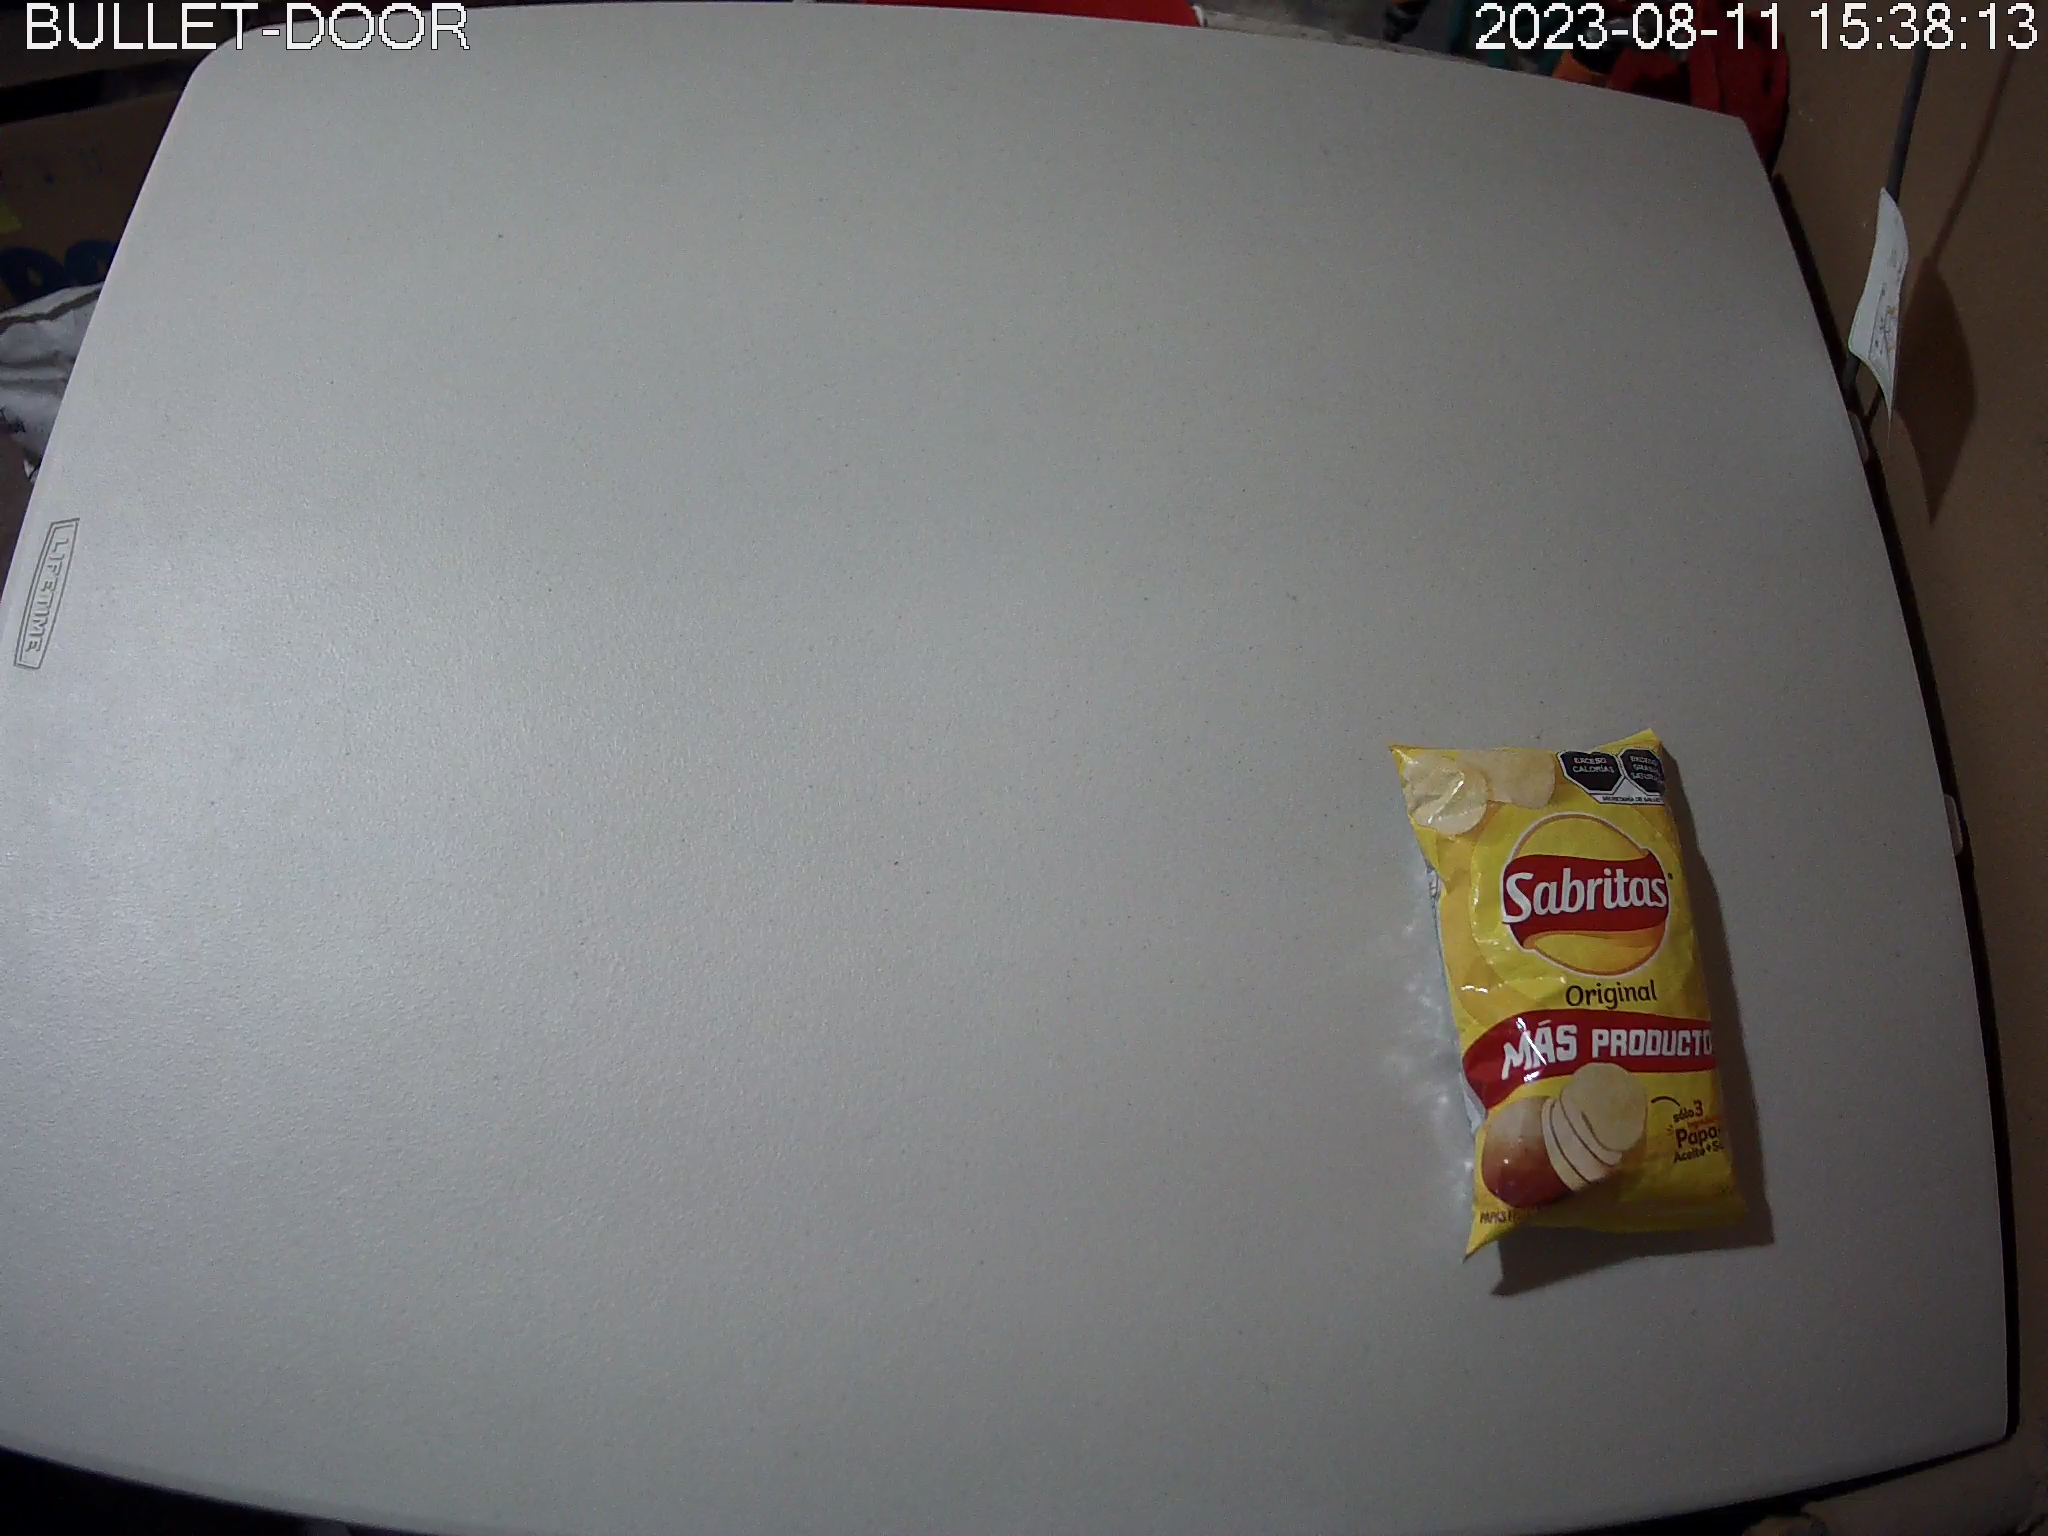Sabritas_45_F: (1384, 729, 1755, 1263)
